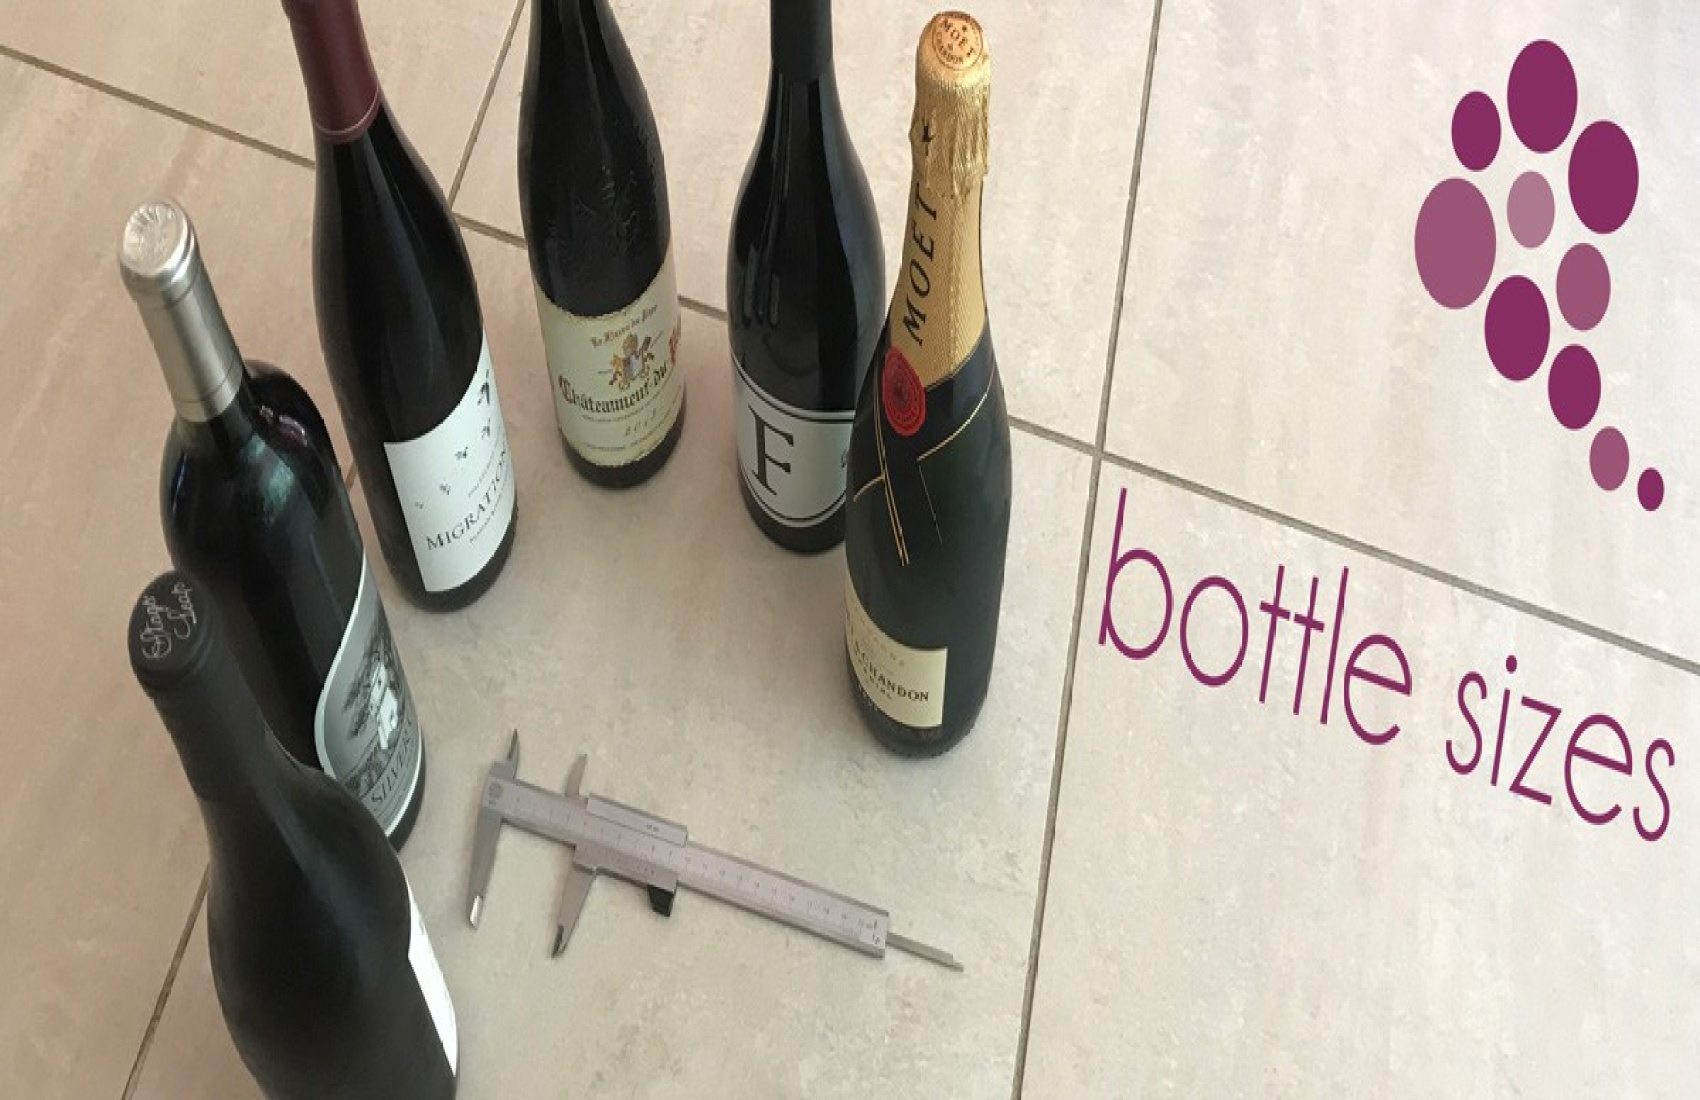wine: (289, 12, 514, 607), (844, 40, 1002, 740), (712, 43, 880, 530), (518, 1, 685, 486)
